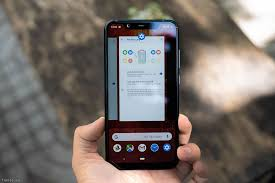nokia: (103, 14, 182, 176)
